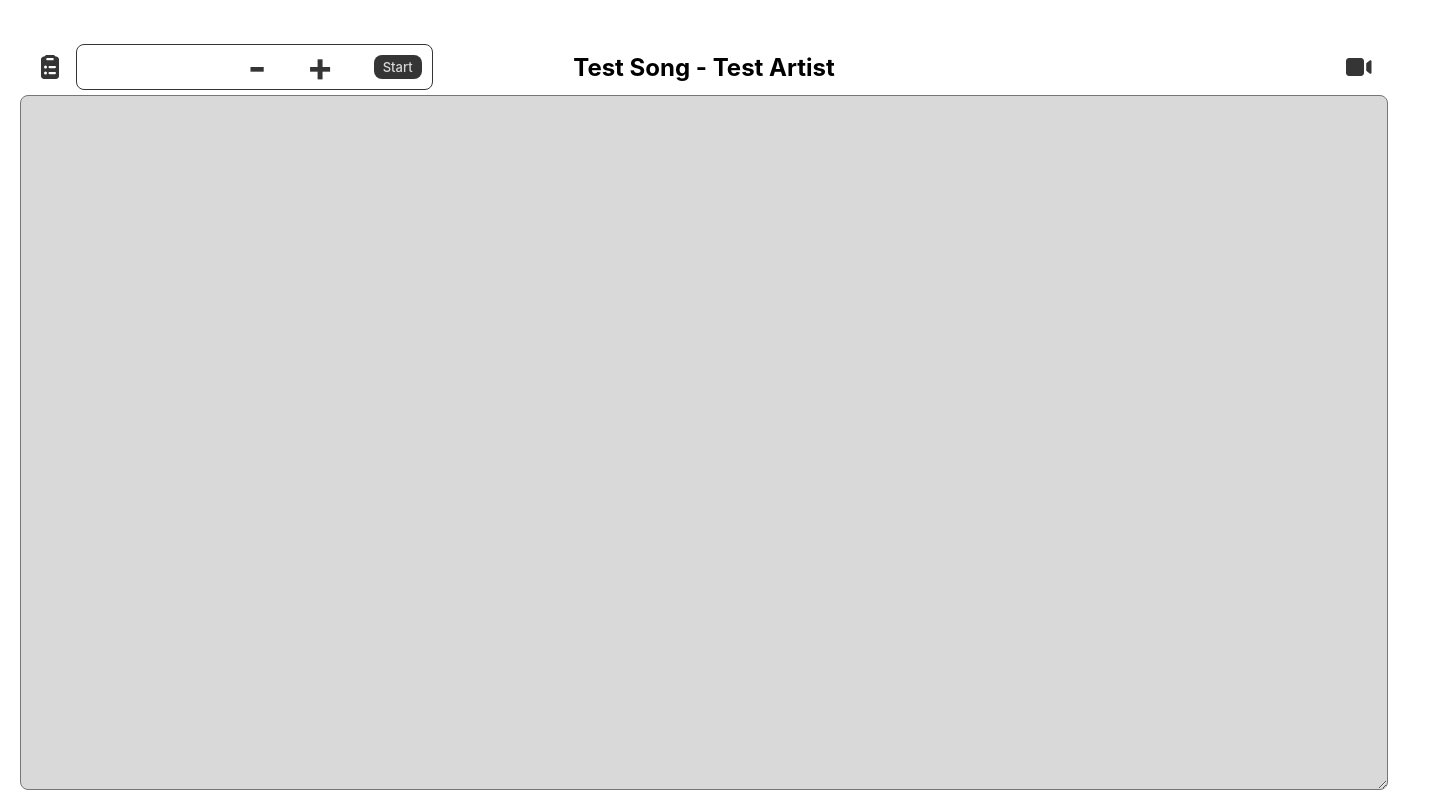
SongDisplay › Video Panel › displays video buttons when videos are fetched
Click the 2nd picture: (1358, 67) top-left (1338, 50), bottom-right (1378, 84)
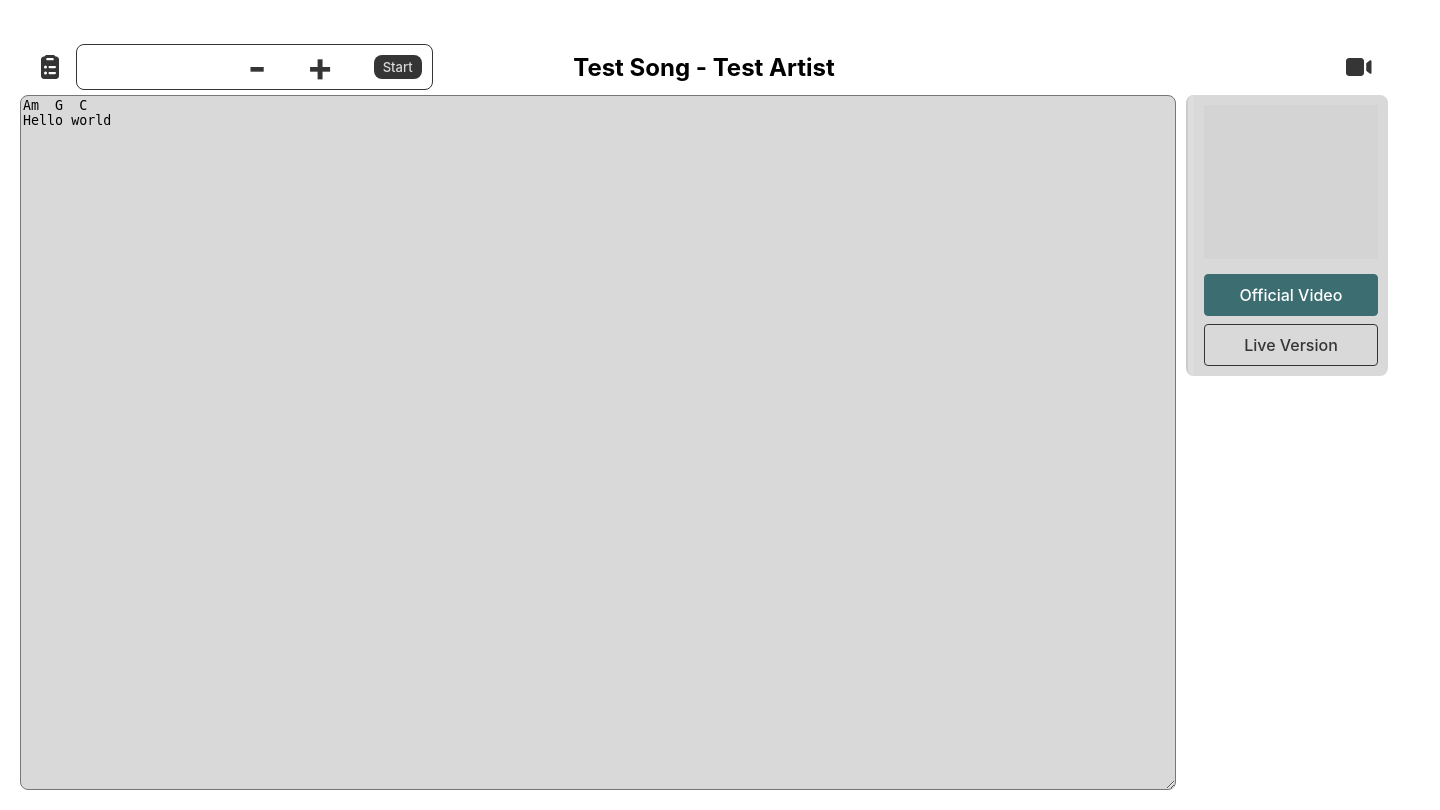
Expected: the button "Official Video" is shown, top-left (1204, 274), bottom-right (1378, 316)
Expected: the button "Live Version" is shown, top-left (1204, 324), bottom-right (1378, 366)
